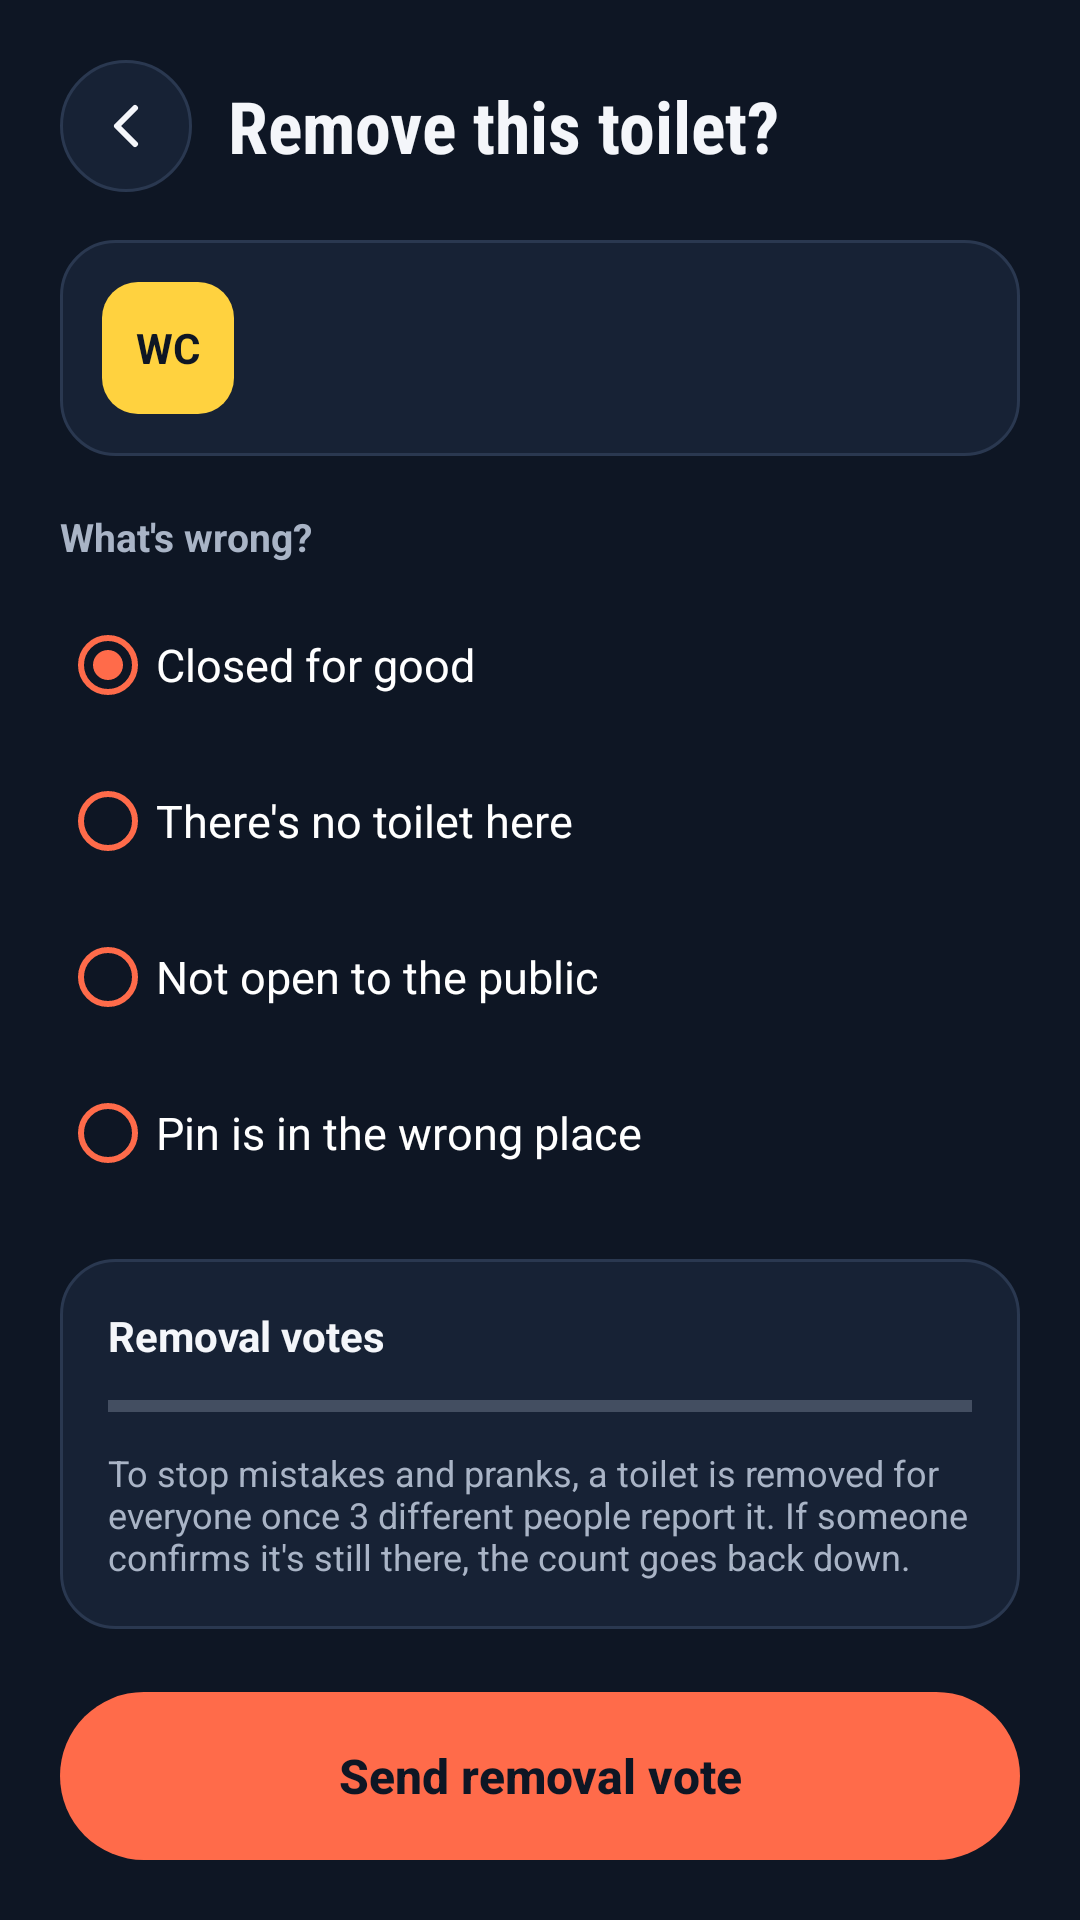

Screen size 1080×1920. Icon name, then its box in pixels as (x1, y1, x2, y2):
Back: (60, 60, 192, 192)
